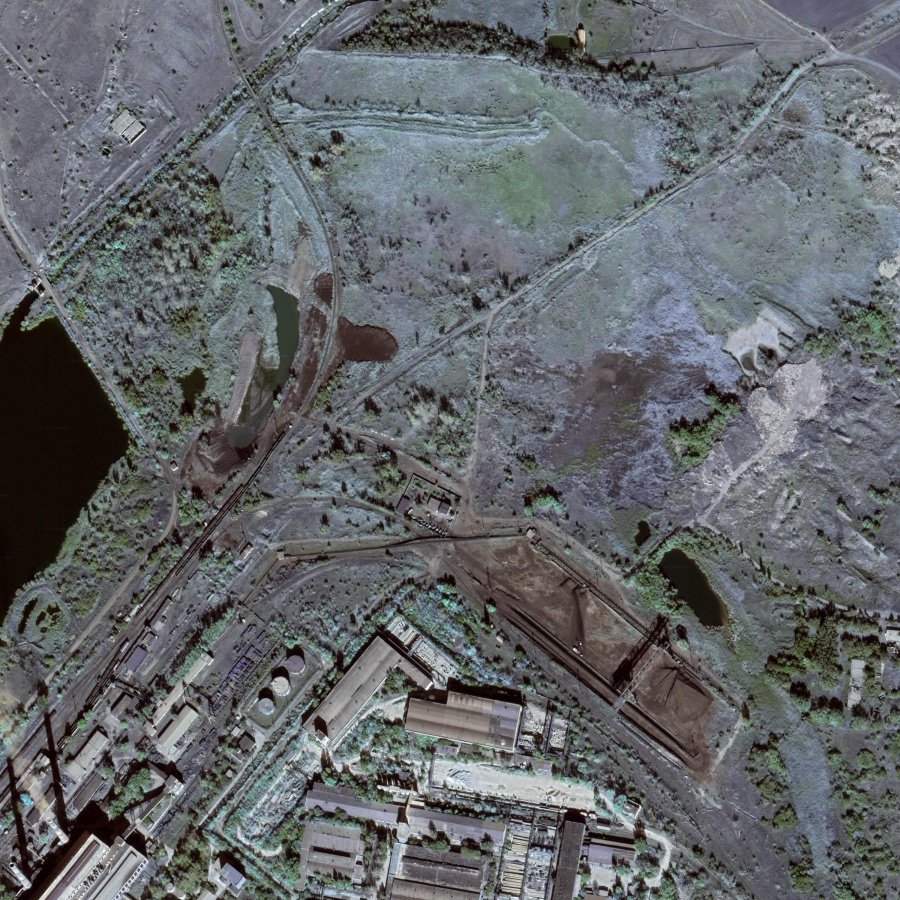PowerPlant: (429, 518, 719, 771)
